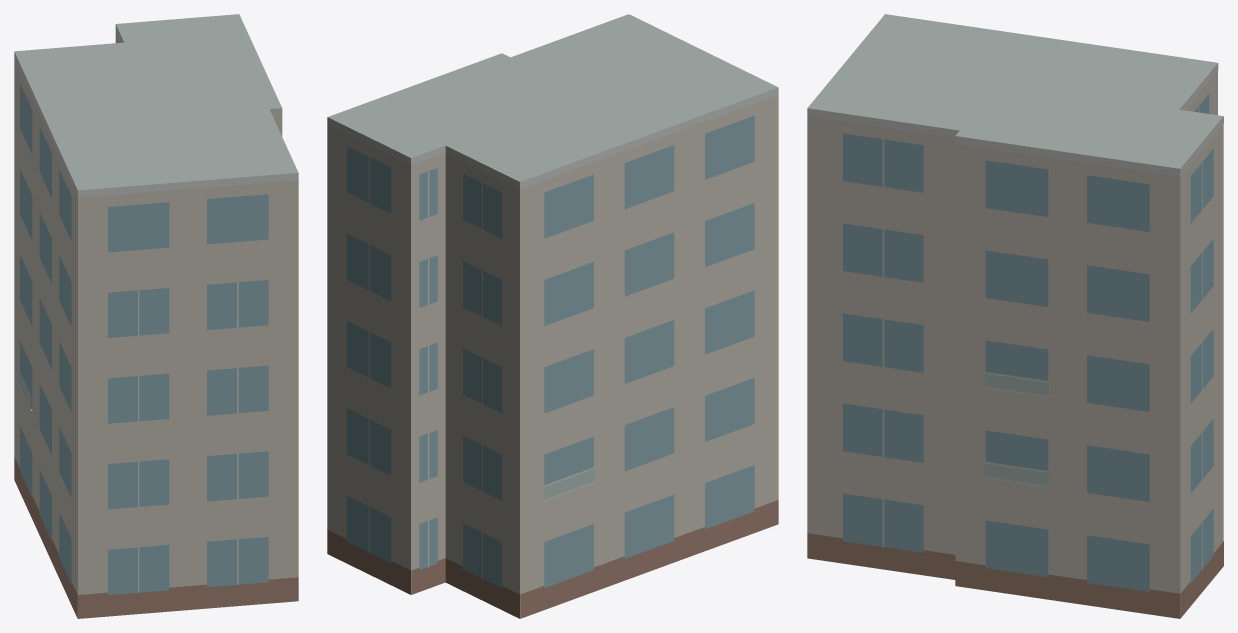
File: survey-upis-32890589.glb
3 renders of one model, left to right at view 1: azimuth 30°, elevation 25°; view 2: azimuth 150°, elevation 25°; view 3: azimuth 270°, elevation 25°, orthographic. The views are drawn at different scales.
Visible parts, largest first — view 1: survey-upis-32890589.tmp; view 2: survey-upis-32890589.tmp; view 3: survey-upis-32890589.tmp.
Boxes of the visible parts, left/top/right/bottom form: survey-upis-32890589.tmp: left=14, top=14, right=298, bottom=618; survey-upis-32890589.tmp: left=327, top=14, right=778, bottom=618; survey-upis-32890589.tmp: left=807, top=14, right=1223, bottom=618.
Bounding box in the file's own units: 10.82 × 14.65 × 12.3.
